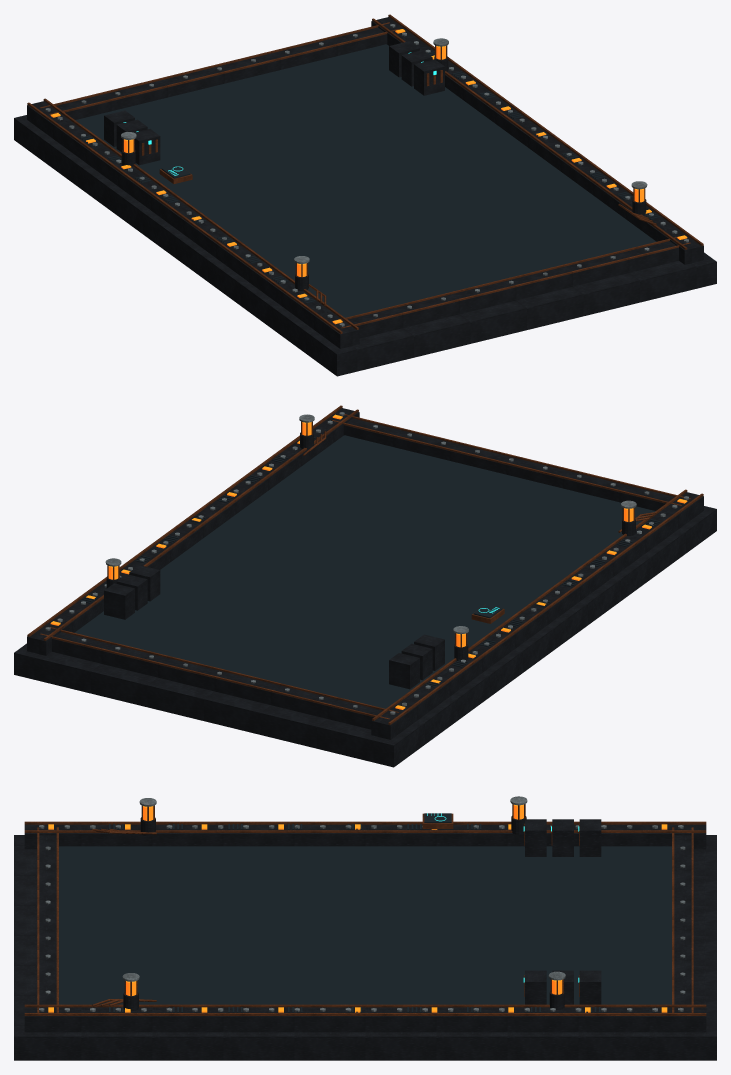
Rendered from command_desk.glb.
3 renders of one model, top to bottom at view 1: azimuth 30°, elevation 25°; view 2: azimuth 150°, elevation 25°; view 3: azimuth 270°, elevation 25°, orthographic. The views are drawn at different scales.
Parts seen in each view (by area): view 1: Command desk / chassis and instruments; view 2: Command desk / chassis and instruments; view 3: Command desk / chassis and instruments.
Part boxes in pixels (<box>): Command desk / chassis and instruments: <box>14,14,716,376</box>; Command desk / chassis and instruments: <box>14,405,716,767</box>; Command desk / chassis and instruments: <box>14,796,716,1060</box>.
Bounding box in the file's own units: 11.2 × 1.85 × 16.5.
Materials: 6 (3 with a texture image).
